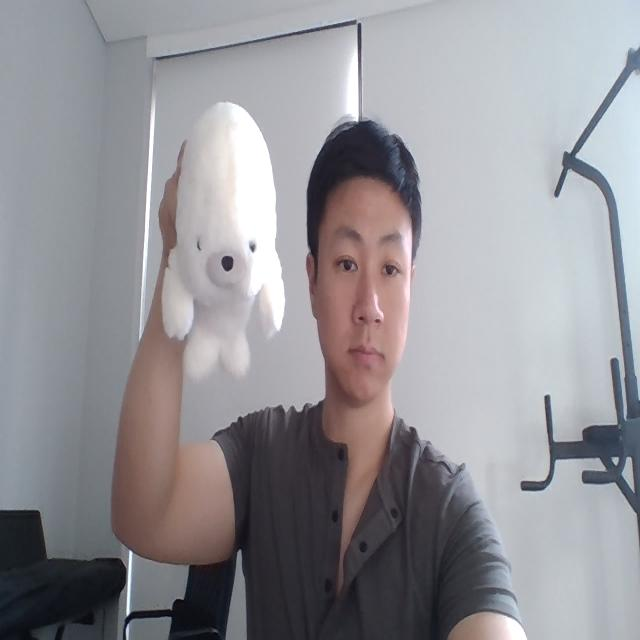seal_bb: (162, 101, 284, 382)
